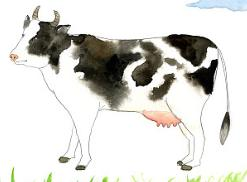cow: (10, 15, 230, 171)
